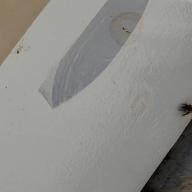Bee: (172, 99, 192, 123)
